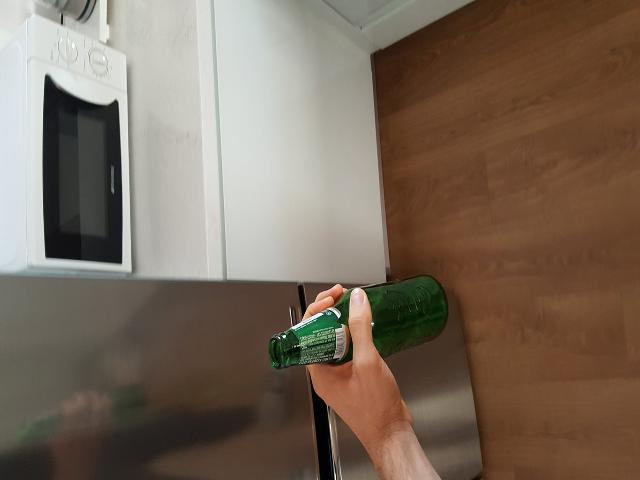beer: (269, 276, 449, 369)
